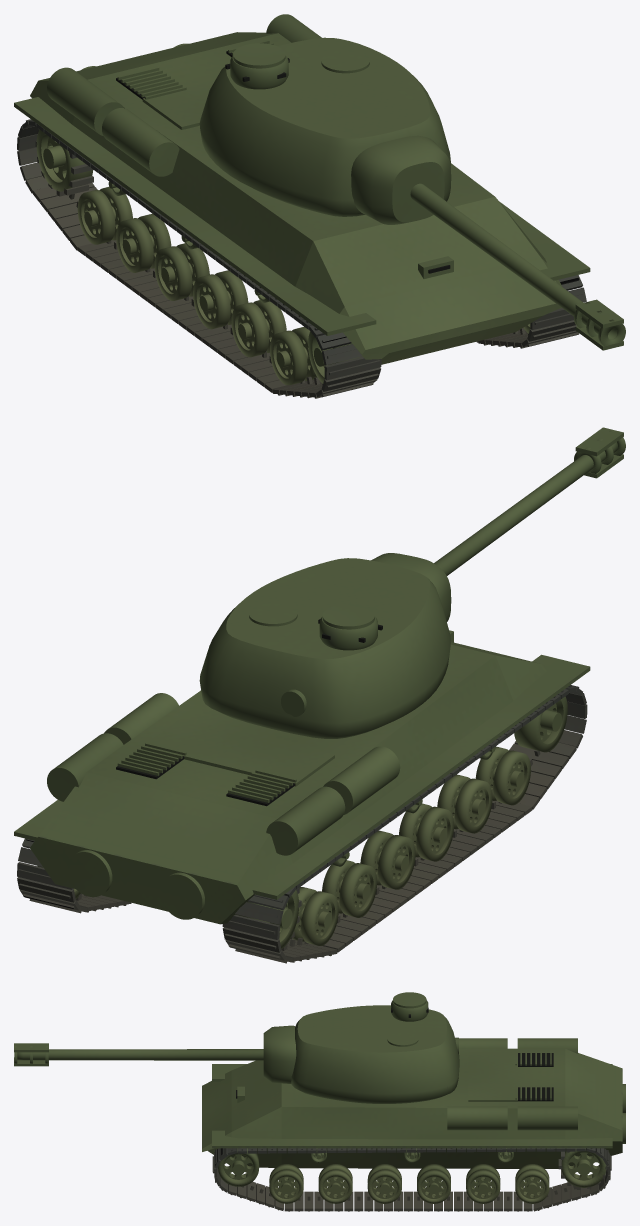
The picture shows the model from 3 angles, top to bottom: view 1: azimuth 30°, elevation 25°; view 2: azimuth 150°, elevation 25°; view 3: azimuth 270°, elevation 25°; orthographic projection. The views are drawn at different scales.
Visible parts, largest first — view 1: HullGeometry, TurretGeometry, TrackLeft, Fender, HeavyGunMantlet, GunBarrel, ExternalFuelDrum, ExternalFuelDrum.001, TrackRight, Wheel_Drive_-1, EngineAccessPanel, Fender.001 (+17 smaller); view 2: HullGeometry, TurretGeometry, TrackLeft, Fender, EngineAccessPanel, GunBarrel, ExternalFuelDrum.001, TrackRight, ExternalFuelDrum, ExternalFuelDrum.003, Wheel_Idler_-1, Wheel_-1_0_1 (+17 smaller); view 3: HullGeometry, TurretGeometry, TrackRight, Fender.001, GunBarrel, EngineAccessPanel, HeavyGunMantlet, ExternalFuelDrum.002, ExternalFuelDrum.003, Wheel_Drive_1, Wheel_Idler_1, Wheel_1_1_1 (+14 smaller).
Boxes of the visible parts, x1,y1,x2,y2 form: HullGeometry: (30, 32, 562, 364); TurretGeometry: (199, 37, 450, 216); TrackLeft: (17, 119, 381, 398); Fender: (14, 97, 376, 335); HeavyGunMantlet: (351, 135, 451, 224); GunBarrel: (410, 183, 617, 339); ExternalFuelDrum: (102, 108, 179, 176); ExternalFuelDrum.001: (47, 67, 123, 135); TrackRight: (476, 275, 586, 348); Wheel_Drive_-1: (35, 129, 93, 196); EngineAccessPanel: (142, 81, 214, 129); Fender.001: (499, 201, 590, 280); HullGeometry: (30, 642, 547, 924); TurretGeometry: (199, 558, 450, 738); TrackLeft: (222, 685, 587, 963); Fender: (252, 654, 590, 899); EngineAccessPanel: (143, 717, 334, 786); GunBarrel: (434, 442, 617, 575); ExternalFuelDrum.001: (266, 786, 345, 855); TrackRight: (17, 838, 131, 913); ExternalFuelDrum: (323, 746, 400, 814); ExternalFuelDrum.003: (47, 733, 123, 801); Wheel_Idler_-1: (514, 696, 567, 752); Wheel_-1_0_1: (493, 750, 530, 805); HullGeometry: (202, 1048, 622, 1168); TurretGeometry: (291, 1005, 459, 1103); TrackRight: (212, 1148, 611, 1211); Fender.001: (212, 1130, 612, 1148); GunBarrel: (17, 1049, 263, 1060); EngineAccessPanel: (468, 1052, 517, 1101); HeavyGunMantlet: (263, 1025, 296, 1083); ExternalFuelDrum.002: (447, 1106, 507, 1130); ExternalFuelDrum.003: (517, 1106, 577, 1130); Wheel_Drive_1: (558, 1148, 606, 1189); Wheel_Idler_1: (218, 1148, 259, 1186); Wheel_1_1_1: (318, 1169, 352, 1203).
Size of the model in its own units: 3.12 by 2.81 by 9.83.
Materials: 1 (1 with a texture image).
